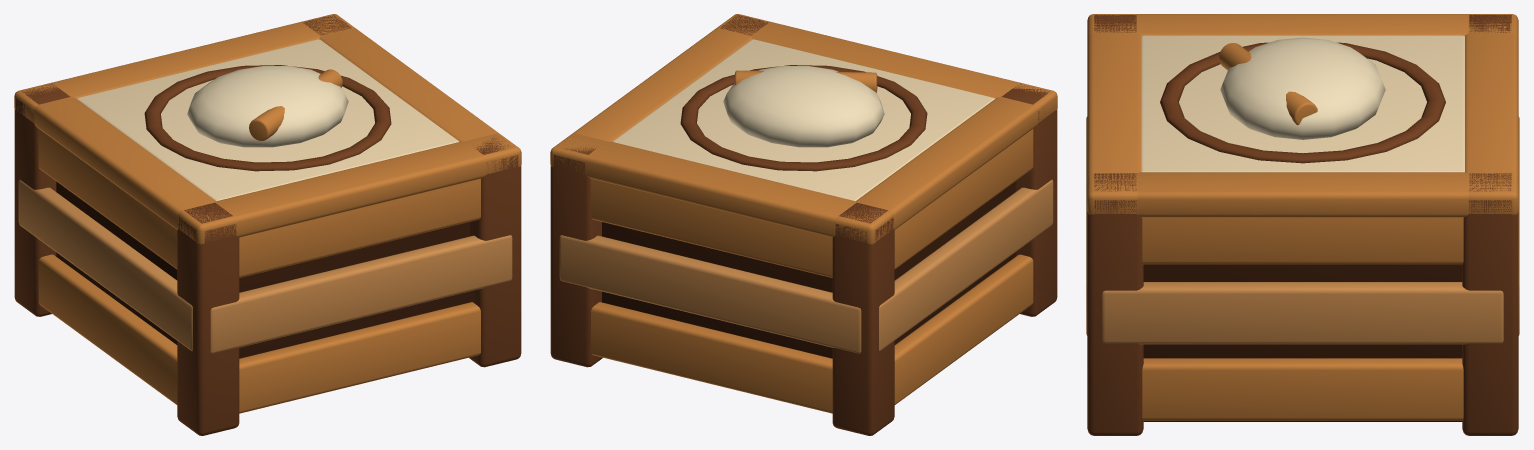
File: crate_dough.gltf
3 renders of one model, left to right at view 1: azimuth 30°, elevation 25°; view 2: azimuth 150°, elevation 25°; view 3: azimuth 270°, elevation 25°, orthographic. The views are drawn at different scales.
Parts seen in each view (by area): view 1: CrateShadowCore; view 2: CrateShadowCore; view 3: CrateShadowCore.
Boxes of the visible parts, x1=… form: CrateShadowCore: x1=14, y1=14, x2=521, y2=435; CrateShadowCore: x1=550, y1=14, x2=1057, y2=435; CrateShadowCore: x1=1086, y1=14, x2=1519, y2=435.
Bounding box in the file's own units: 1.01 × 0.743 × 1.01.
